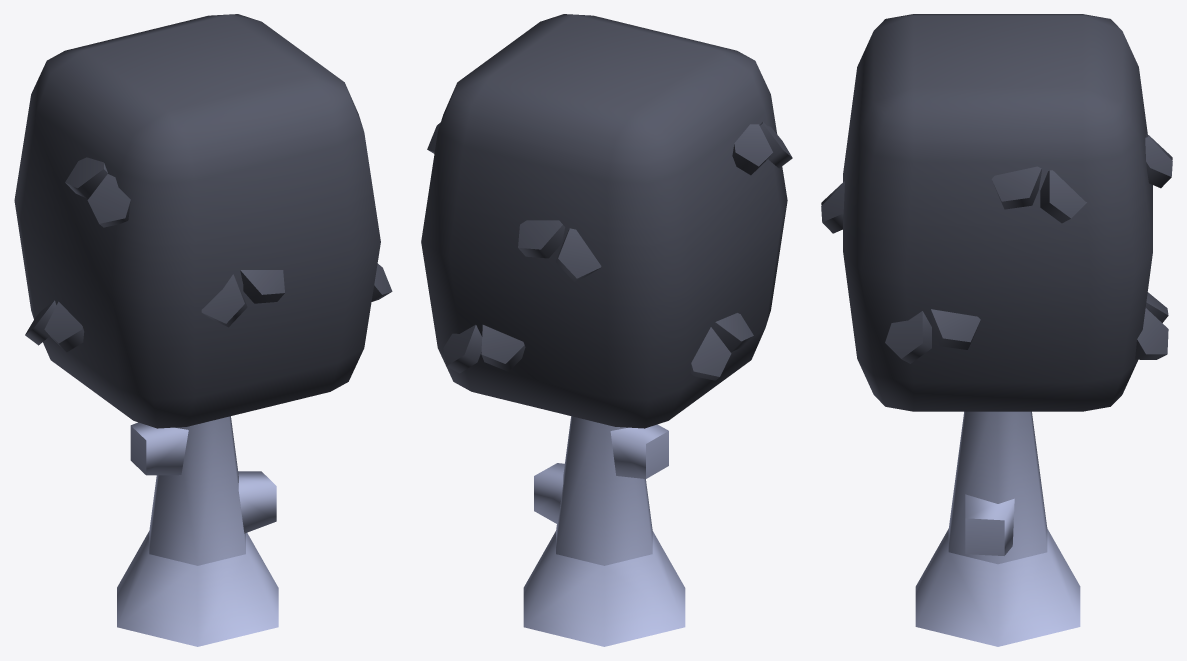
The model's file is tree-snow.glb.
3 views of the same model, side by side, from view 1: azimuth 30°, elevation 25°; view 2: azimuth 150°, elevation 25°; view 3: azimuth 270°, elevation 25° (orthographic).
Visible parts, largest first — view 1: tree-snow; view 2: tree-snow; view 3: tree-snow.
Boxes of the visible parts, <box> form: tree-snow: <box>14,14,392,646</box>; tree-snow: <box>421,14,792,646</box>; tree-snow: <box>821,14,1172,646</box>.
Bounding box in the file's own units: 1.09 × 1.93 × 1.11.
